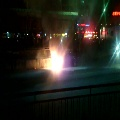fire: (49, 50, 63, 73)
